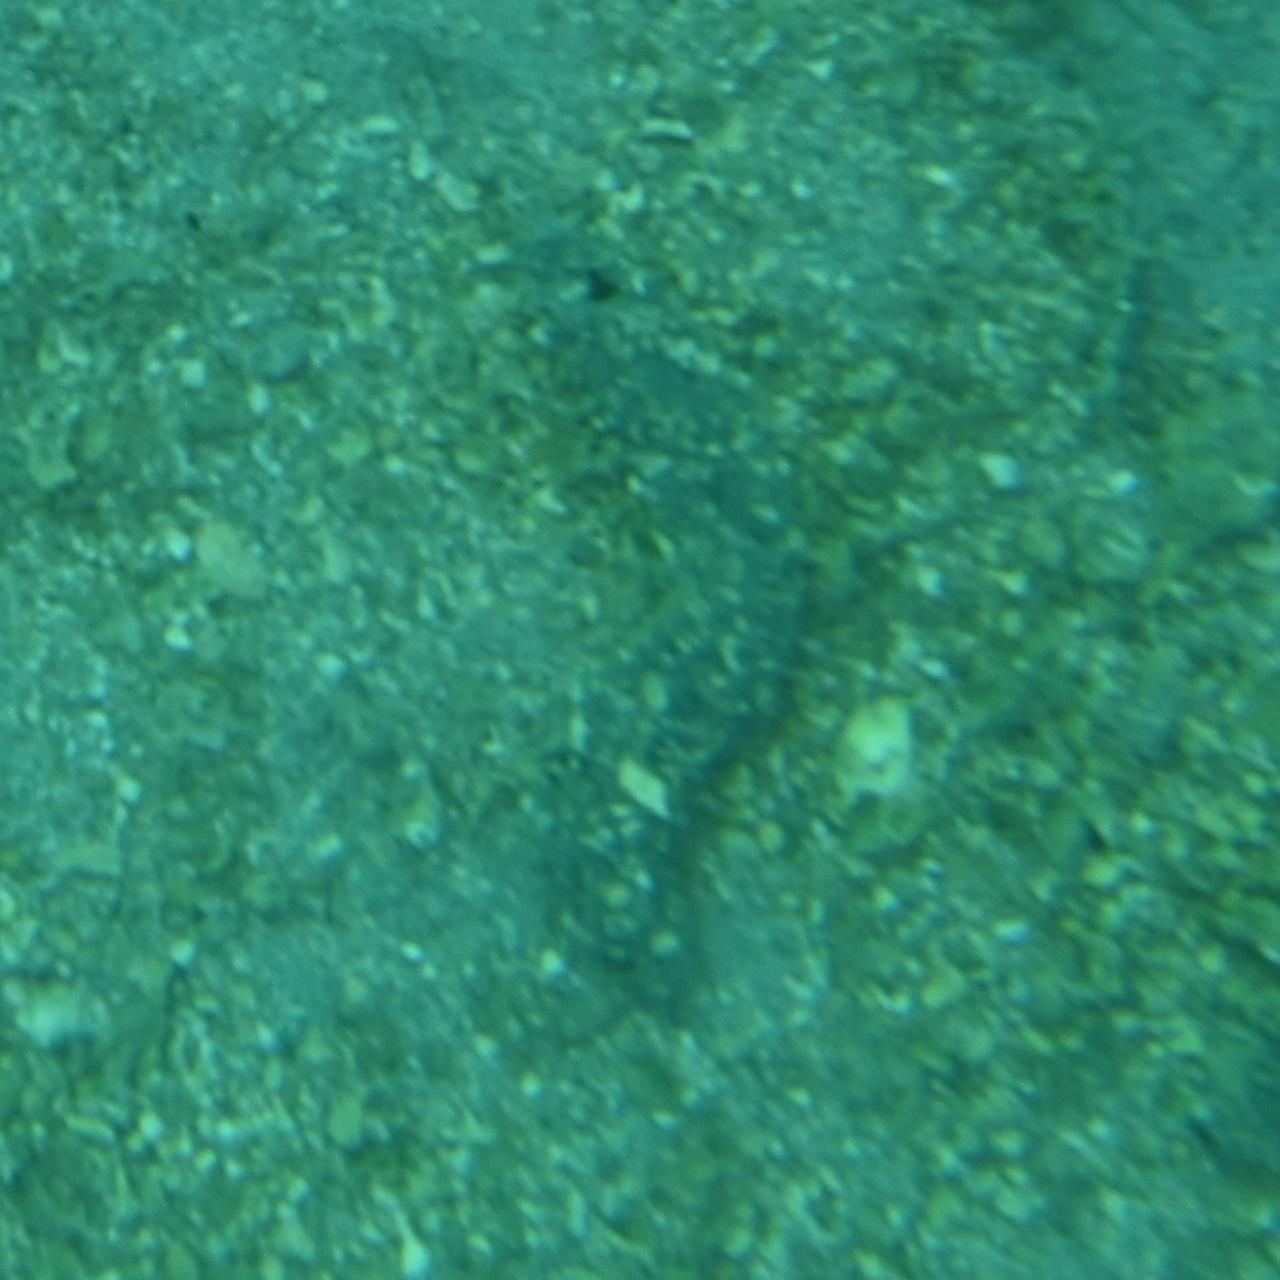Holothuria tubulosa: (482, 232, 798, 1048)
